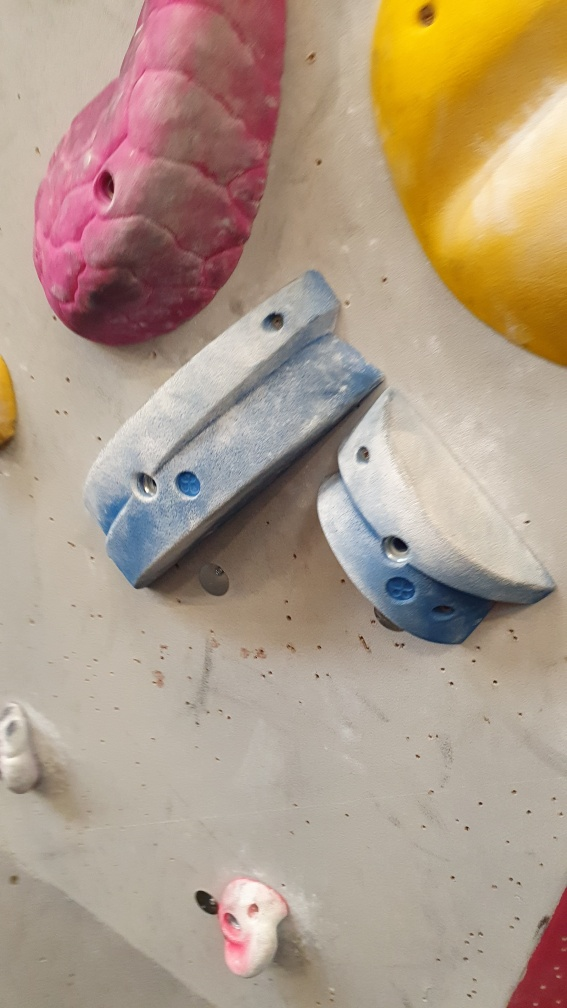Hand Start: (197, 555, 233, 600), (194, 888, 222, 917)
Pinch: (80, 271, 382, 595), (314, 388, 556, 643)
